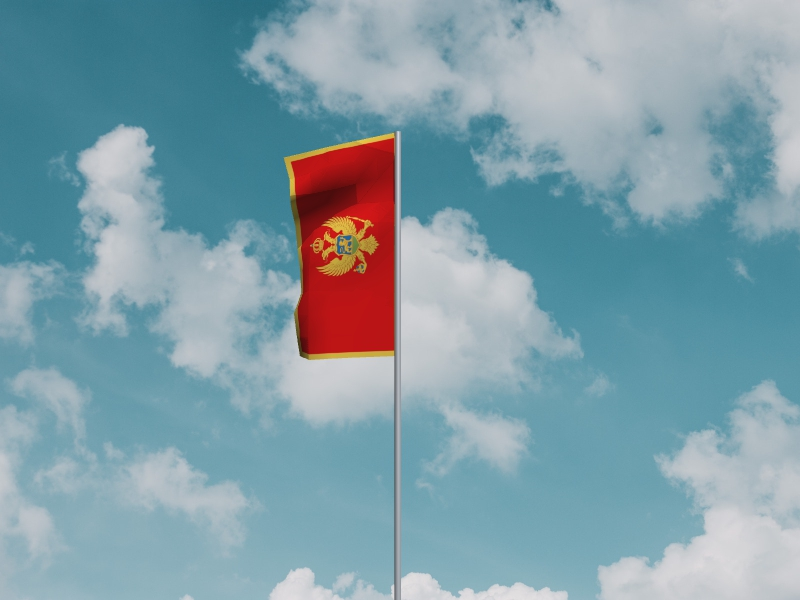me: (283, 133, 395, 362)
